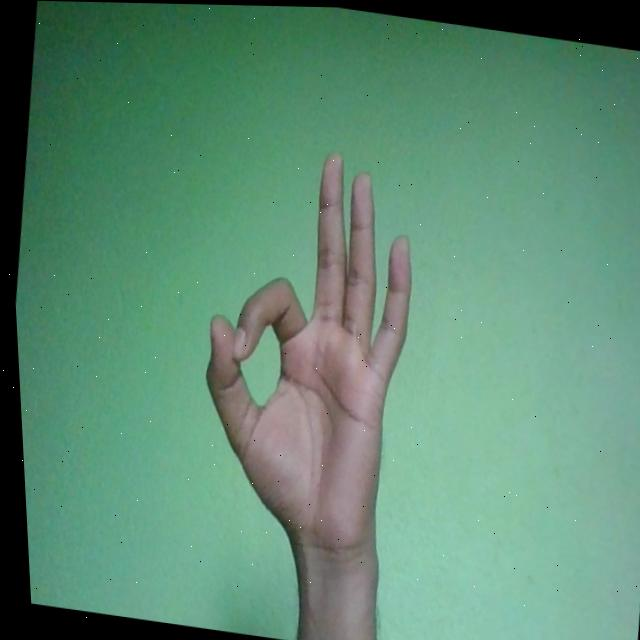Ok: (172, 133, 435, 565)
